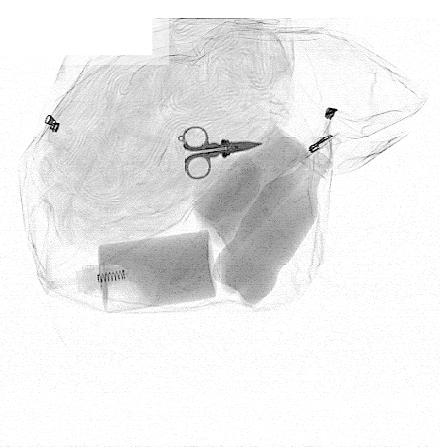Scissors: (183, 122, 266, 182)
